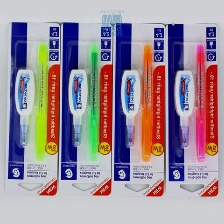book: (2, 20, 62, 197), (55, 18, 113, 198), (108, 22, 166, 198), (164, 21, 220, 198)
correction_fluid: (117, 66, 142, 148), (11, 67, 36, 149), (172, 67, 196, 148), (66, 68, 88, 147)
